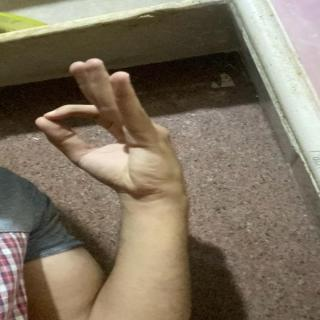Space: (31, 51, 196, 200)
